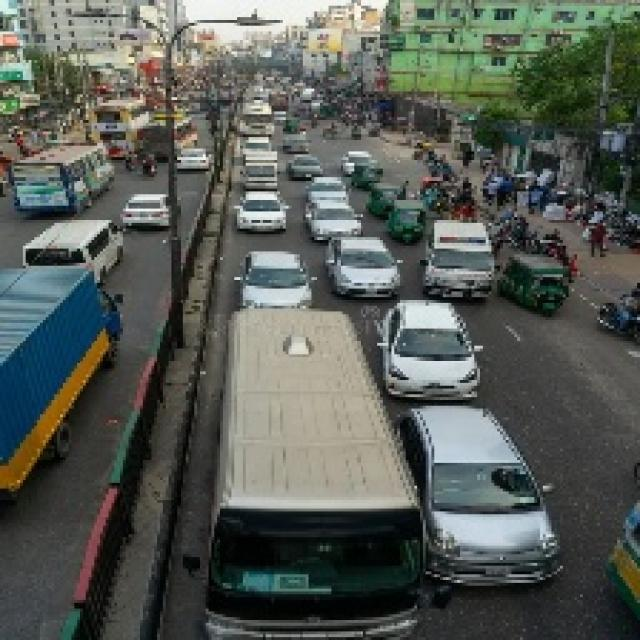bike: (143, 163, 158, 177), (125, 159, 139, 172)
car: (402, 399, 569, 586), (372, 301, 485, 397), (420, 214, 503, 299), (231, 245, 314, 321), (15, 216, 128, 268), (320, 234, 411, 294), (114, 191, 180, 230), (296, 203, 370, 237), (233, 192, 288, 235), (304, 176, 362, 202), (283, 152, 330, 179), (166, 148, 214, 170), (283, 131, 309, 150)
